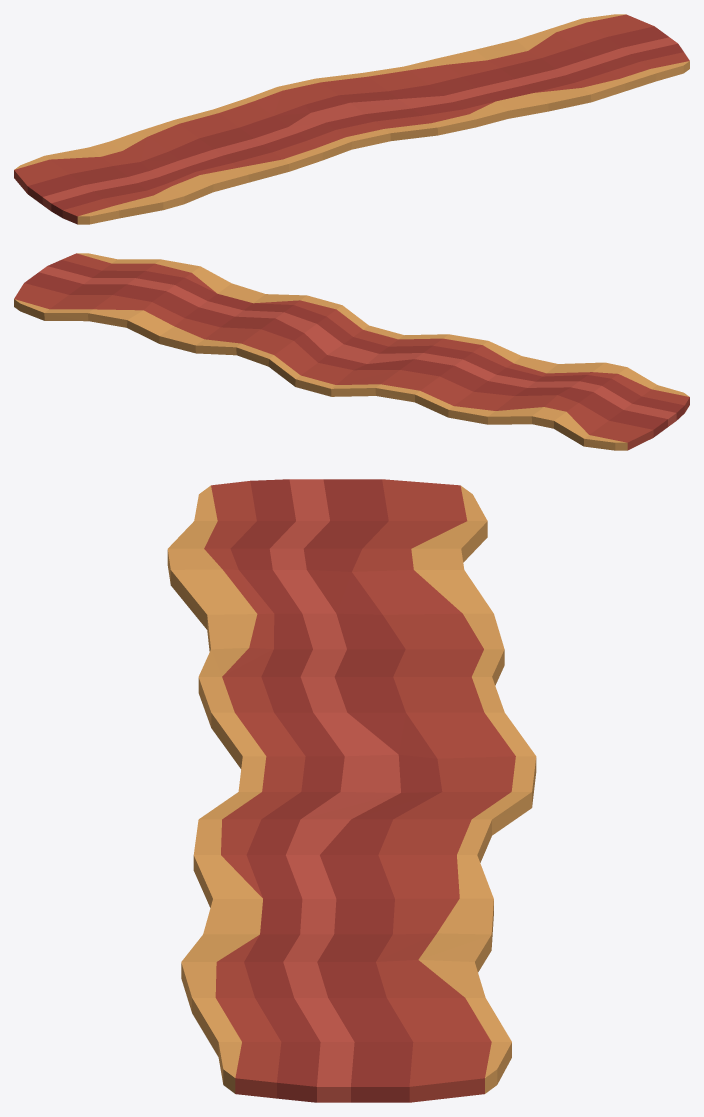
File: Bacon_Uncooked.obj
The picture shows the model from 3 angles, top to bottom: view 1: azimuth 30°, elevation 25°; view 2: azimuth 150°, elevation 25°; view 3: azimuth 270°, elevation 25°; orthographic projection. The views are drawn at different scales.
Parts seen in each view (by area): view 1: Bacon_Uncooked_Meat1, Bacon_Uncooked_Meat2, Bacon_Uncooked_LightYellow, Bacon_Uncooked_Meat3; view 2: Bacon_Uncooked_Meat1, Bacon_Uncooked_Meat2, Bacon_Uncooked_LightYellow, Bacon_Uncooked_Meat3; view 3: Bacon_Uncooked_Meat1, Bacon_Uncooked_Meat2, Bacon_Uncooked_LightYellow, Bacon_Uncooked_Meat3.
Boxes of the visible parts, x1,y1,x2,y2 form: Bacon_Uncooked_Meat1: (14,14,689,224); Bacon_Uncooked_Meat2: (27,26,683,217); Bacon_Uncooked_LightYellow: (14,14,689,224); Bacon_Uncooked_Meat3: (42,37,677,210); Bacon_Uncooked_Meat1: (14,253,689,450); Bacon_Uncooked_Meat2: (24,260,684,437); Bacon_Uncooked_LightYellow: (14,253,689,450); Bacon_Uncooked_Meat3: (39,266,676,426); Bacon_Uncooked_Meat1: (204,479,515,1102); Bacon_Uncooked_Meat2: (230,479,442,1102); Bacon_Uncooked_LightYellow: (167,485,536,1093); Bacon_Uncooked_Meat3: (269,479,400,1102).
Bounding box in the file's own units: 1.16 × 0.0213 × 0.2968.
